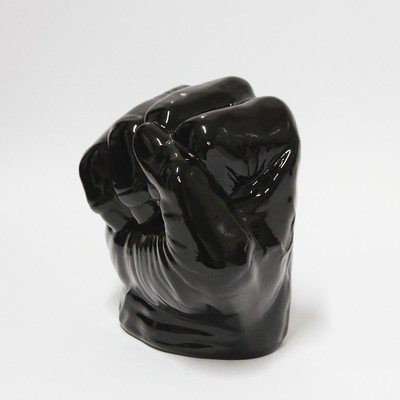closedhandfront: (59, 66, 320, 330)
